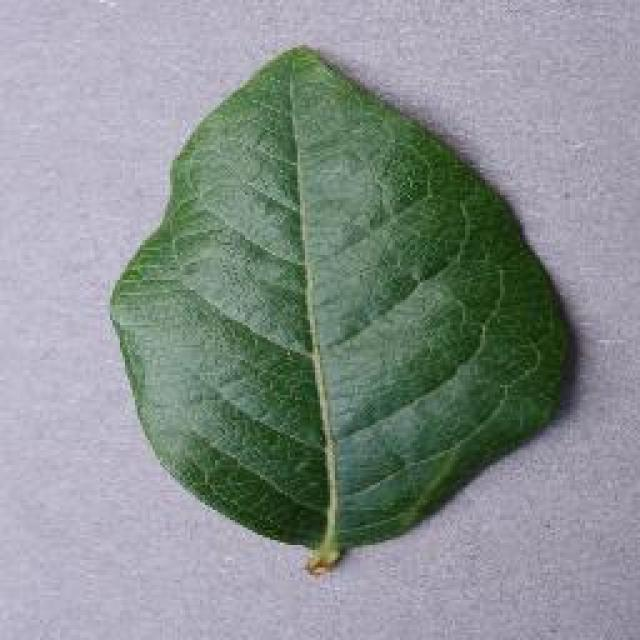Blu_healthy: (118, 130, 532, 501)
